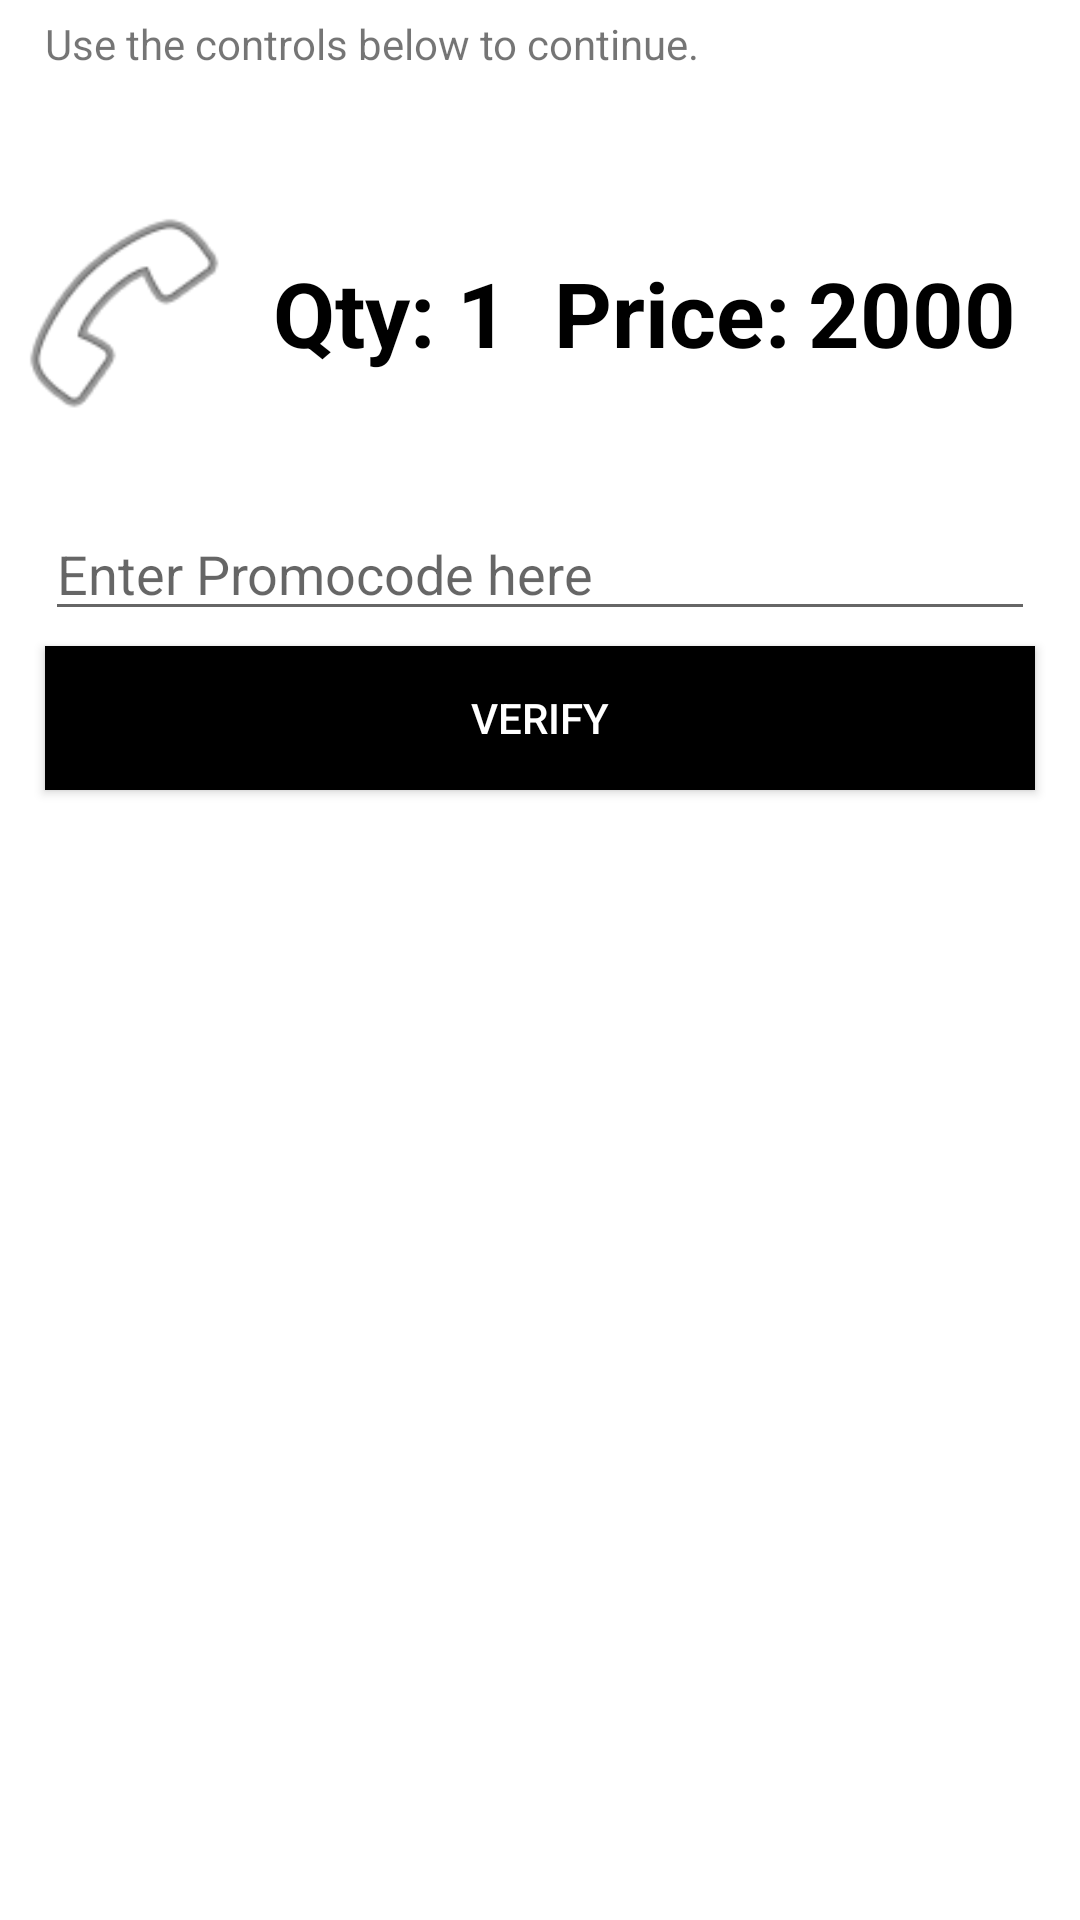

Screen size 1080*1920. Icon name, then its box in pixels as (x1, y1, x2, y2):
call: (30, 219, 218, 407)
